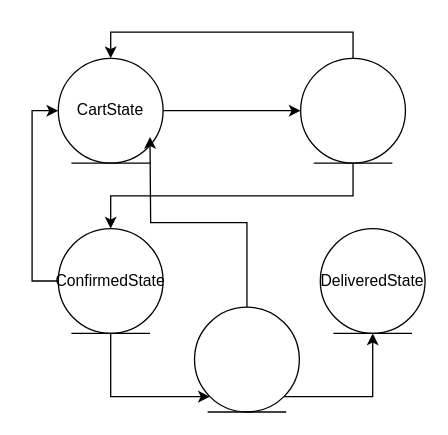
The diagram is 448 pixels wide and 435 high, and some of its shapes have lost their labels. The shapes that lost their labels are listed below. From the top down, each one's box as (x1, y1, x2, y2) in pixels, then its label:
(299, 57, 405, 163): PaidState
(193, 306, 299, 412): MovingState
